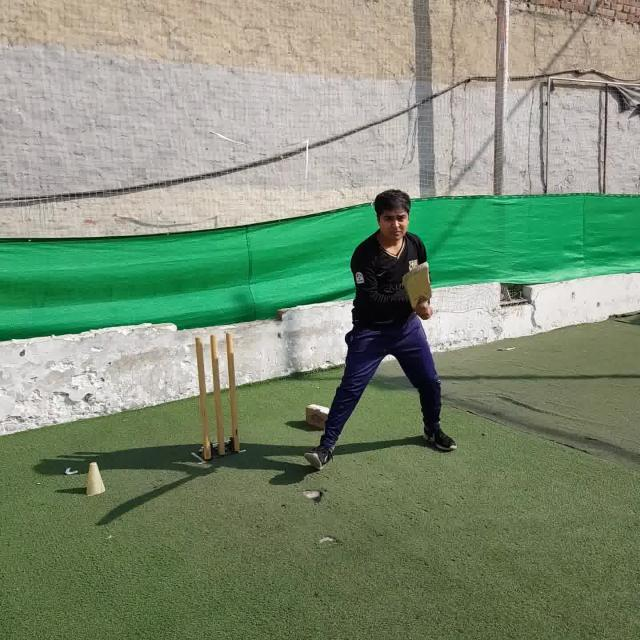bat: (402, 262, 432, 310)
